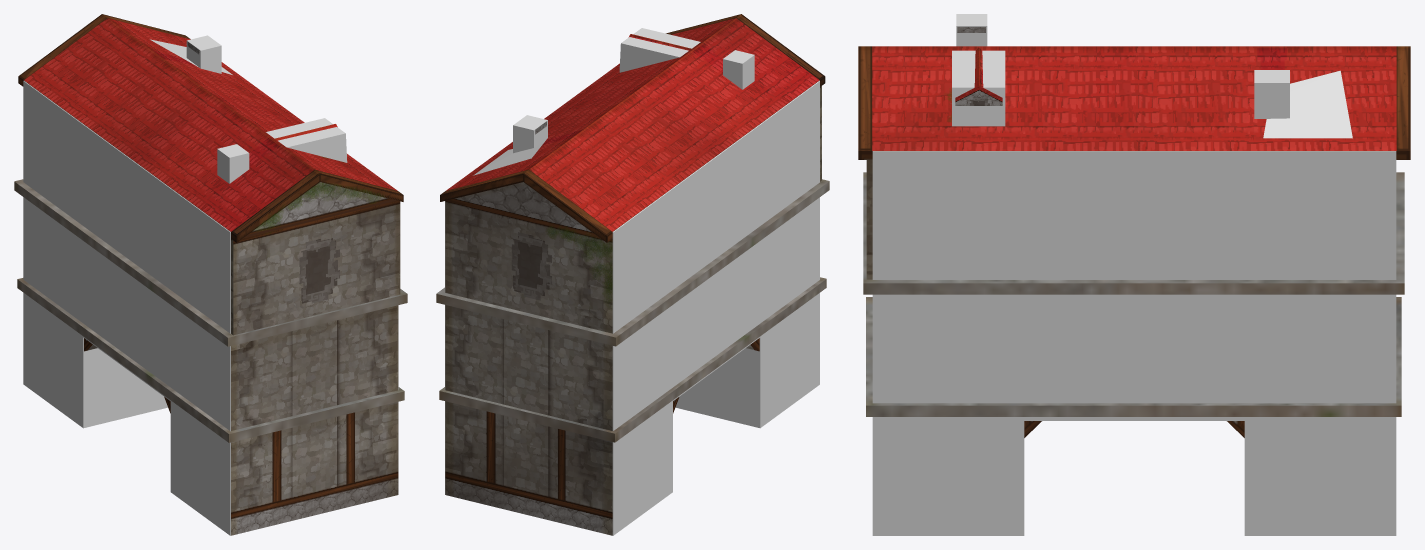
The model's file is Building_3_Col.fbx.
The picture shows the model from 3 angles, left to right: view 1: azimuth 30°, elevation 25°; view 2: azimuth 150°, elevation 25°; view 3: azimuth 270°, elevation 25°; orthographic projection. The views are drawn at different scales.
Visible parts, largest first — view 1: Building3, Building_3_Col; view 2: Building3, Building_3_Col; view 3: Building_3_Col, Building3.
Part boxes in pixels (x1=…): Building3: x1=14, y1=14, x2=407, y2=535; Building_3_Col: x1=23, y1=35, x2=398, y2=535; Building3: x1=436, y1=14, x2=829, y2=535; Building_3_Col: x1=445, y1=28, x2=819, y2=535; Building_3_Col: x1=872, y1=14, x2=1396, y2=535; Building3: x1=858, y1=27, x2=1410, y2=437.
Size of the model in its own units: 214 by 393 by 449.
